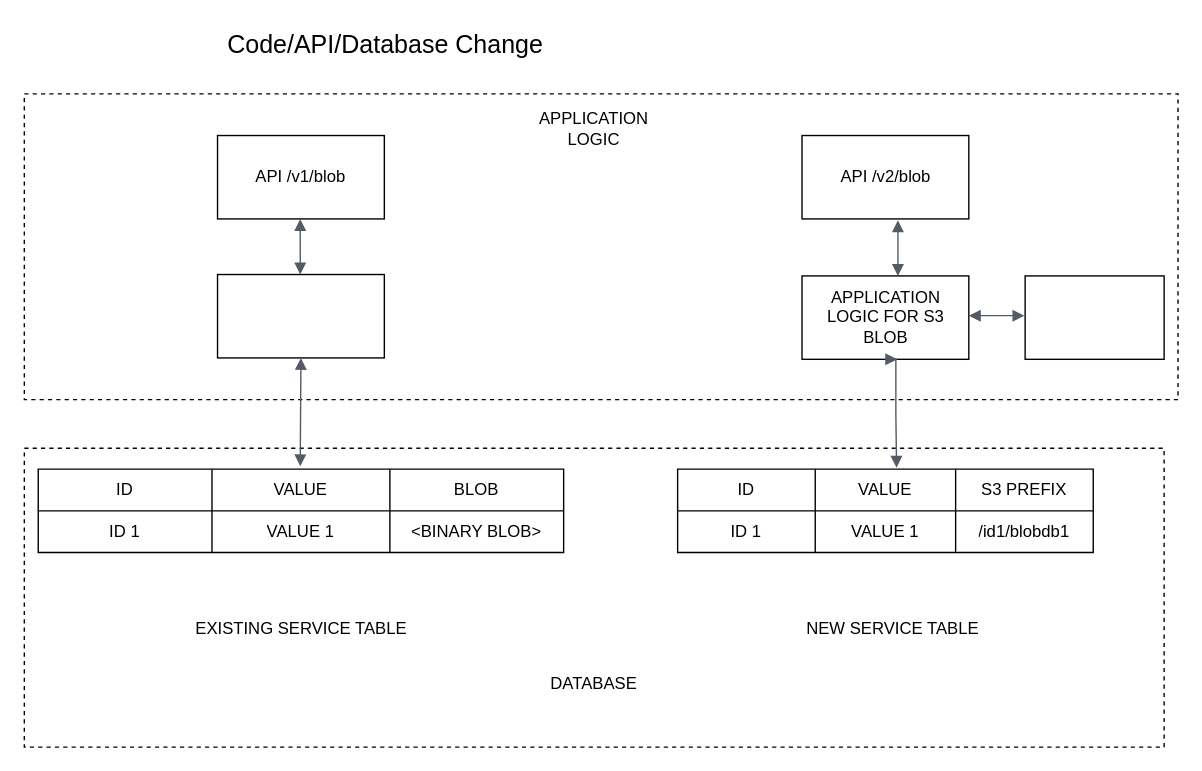
Image size: 1202x771. Some labels were removed from this diagram. Each missing label, with the centre of its shape:
APPLICATION LOGIC FOR BINARY BLOB: (300,315)
AWS Services (S3/STS/IAM): (1094,317)
